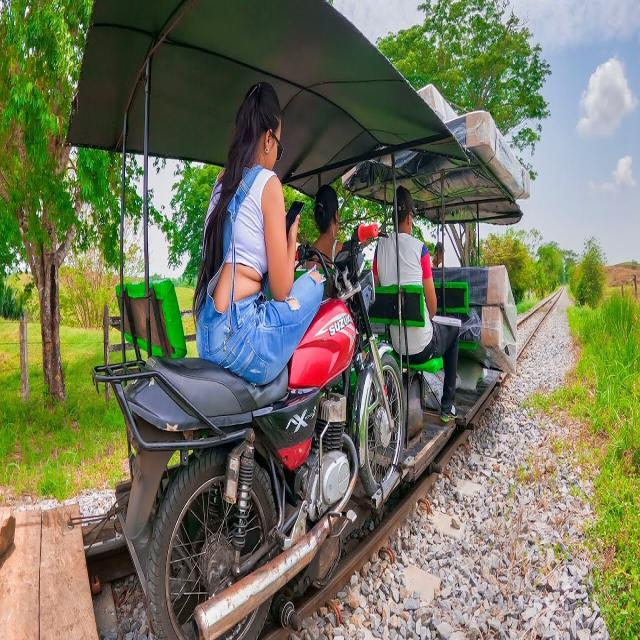MOTORCYCLE: (93, 285, 403, 628)
